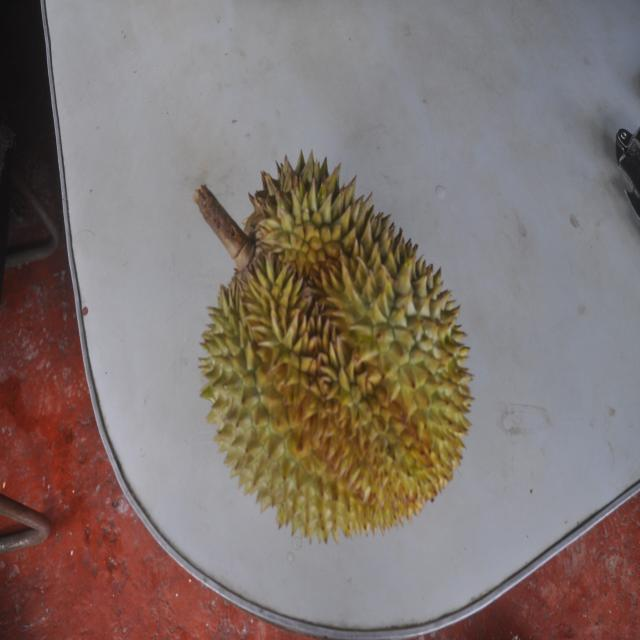mature: (195, 144, 469, 542)
